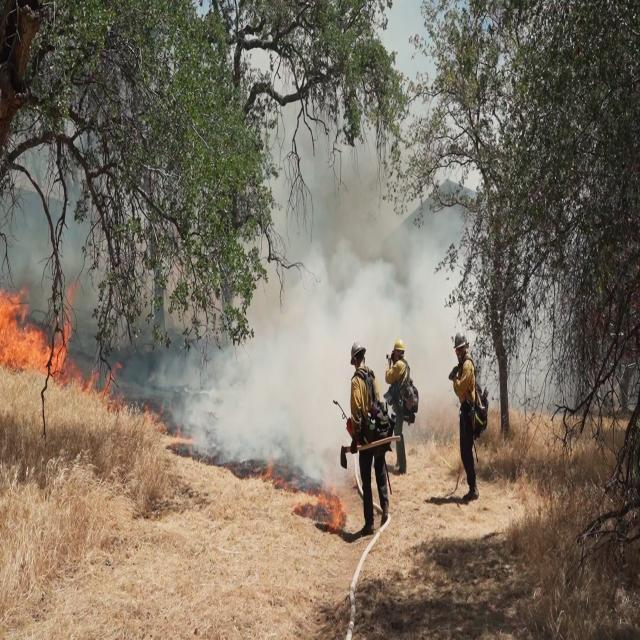Fire: (0, 275, 72, 378)
Smoke: (171, 98, 463, 476)
